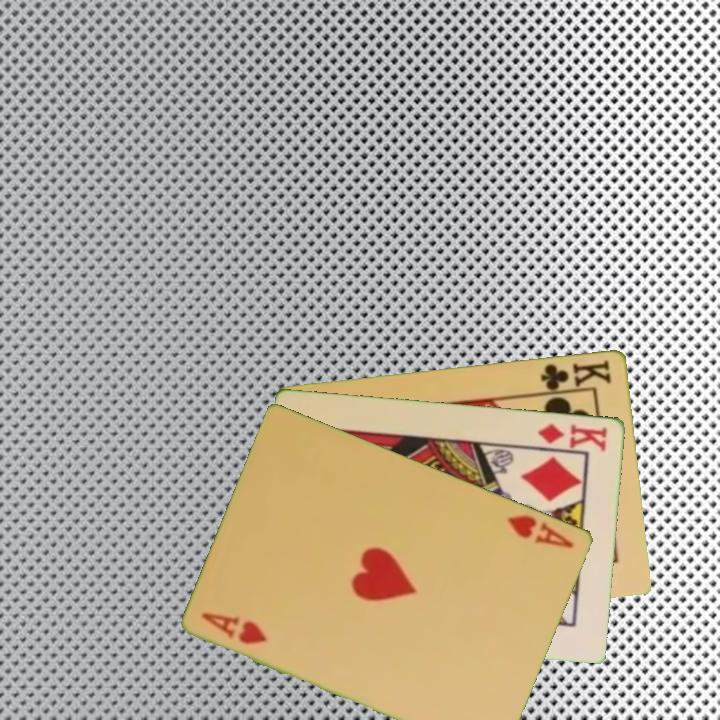Ah: (504, 511, 577, 551), (198, 608, 270, 647)
Kc: (535, 356, 614, 395)
Kd: (534, 419, 610, 454)
